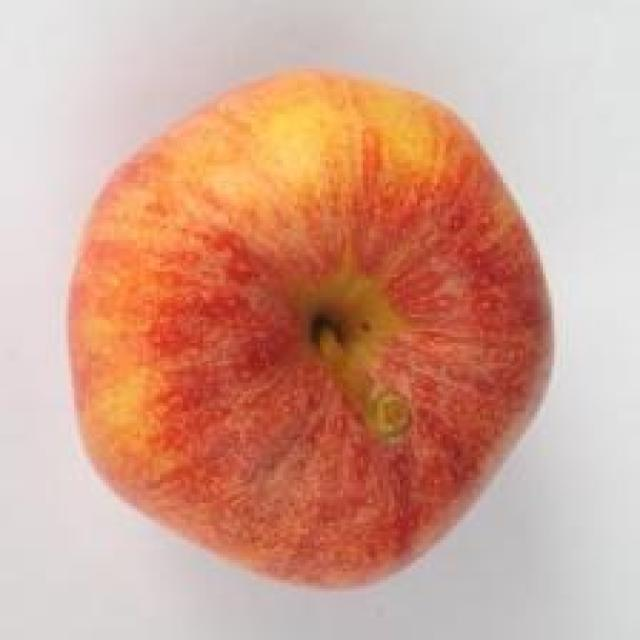apple: (47, 53, 580, 618)
